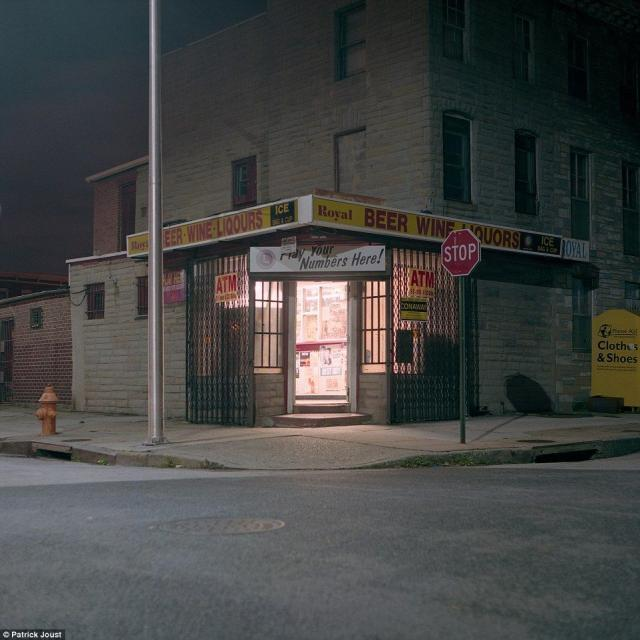on: (0, 0, 200, 48)
